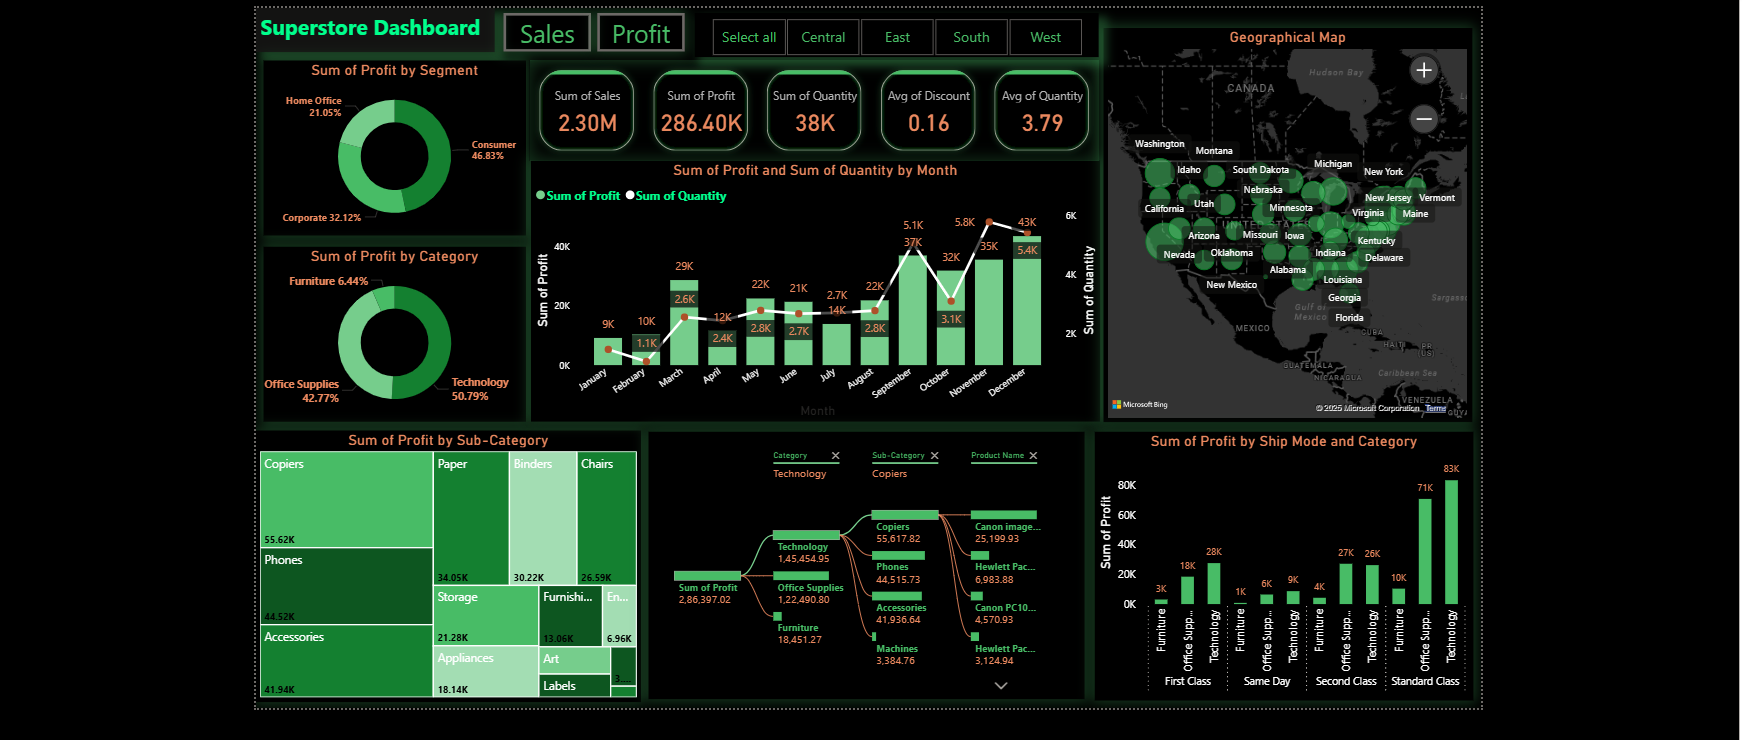

The page's visual inventory and layout, read from the dashboard file:
{"tool":"powerbi","page":{"name":"Dashboard","canvas":[1400,800],"ordinal":0},"visuals":[{"type":"textbox","box":[0,0,272.5,50],"z":7000},{"type":"donutChart","fields":{"Category":["ORDERS.Segment"],"Y":["ORDERS.Profit"]},"box":[8.6,60,300,200],"z":9000},{"type":"donutChart","fields":{"Category":["ORDERS.Category"],"Y":["ORDERS.Profit"]},"box":[8.6,272.9,300,200],"z":10000},{"type":"treemap","fields":{"Group":["ORDERS.Sub-Category"],"Values":["ORDERS.Profit"]},"box":[0,482.9,440,310],"z":11000},{"type":"lineStackedColumnComboChart","fields":{"Category":["ORDERS.Order Date.Variation.Date Hierarchy.Quarter","ORDERS.Order Date.Variation.Date Hierarchy.Month"],"Y2":["ORDERS.Quantity"],"Y":["ORDERS.Profit"]},"box":[314.3,174.3,650,298.6],"z":12000},{"type":"cardVisual","title":"Map","fields":{"Data":["ORDERS.Sales","ORDERS.Profit","ORDERS.Quantity","ORDERS.Discount","ORDERS.Quantity"]},"box":[312.9,60,650,114.3],"z":13000},{"type":"map","title":"Geographical Map","fields":{"Category":["ORDERS.State"],"Size":["ORDERS.Profit"]},"box":[968.6,22.9,421.4,450],"z":14000},{"type":"decompositionTreeVisual","fields":{"ExplainBy":["ORDERS.Category","ORDERS.Sub-Category","ORDERS.Product Name"],"Analyze":["ORDERS.Profit"]},"box":[448.6,484.3,498.6,305.7],"z":15000},{"type":"clusteredColumnChart","fields":{"Category":["ORDERS.Ship Mode","ORDERS.Category"],"Y":["ORDERS.Profit"]},"box":[958.6,484.3,432.9,307.1],"z":16000},{"type":"actionButton","box":[282.9,5.7,100,44.3],"z":17000},{"type":"actionButton","box":[390,5.7,100,44.3],"z":18000},{"type":"slicer","fields":{"Values":["ORDERS.Region"]},"box":[501.4,5.7,461.4,50],"z":19000}]}

Visuals, with their boxes on the page's 1400x800 design canvas (x1, y1, x2, y2). These are canvas units, not pixel positions in the 1742x740 screenshot, which may show the page scaled, cropped or inside an application window:
textbox: locate(0, 0, 272, 50)
donutChart - ORDERS.Segment x ORDERS.Profit: locate(9, 60, 309, 260)
donutChart - ORDERS.Category x ORDERS.Profit: locate(9, 273, 309, 473)
treemap - ORDERS.Sub-Category x ORDERS.Profit: locate(0, 483, 440, 793)
lineStackedColumnComboChart - ORDERS.Order Date.Variation.Date Hierarchy.Quarter x ORDERS.Order Date.Variation.Date Hierarchy.Month: locate(314, 174, 964, 473)
"Map" cardVisual: locate(313, 60, 963, 174)
"Geographical Map" map: locate(969, 23, 1390, 473)
decompositionTreeVisual - ORDERS.Category x ORDERS.Sub-Category: locate(449, 484, 947, 790)
clusteredColumnChart - ORDERS.Ship Mode x ORDERS.Category: locate(959, 484, 1392, 791)
actionButton: locate(283, 6, 383, 50)
actionButton: locate(390, 6, 490, 50)
slicer - ORDERS.Region: locate(501, 6, 963, 56)
